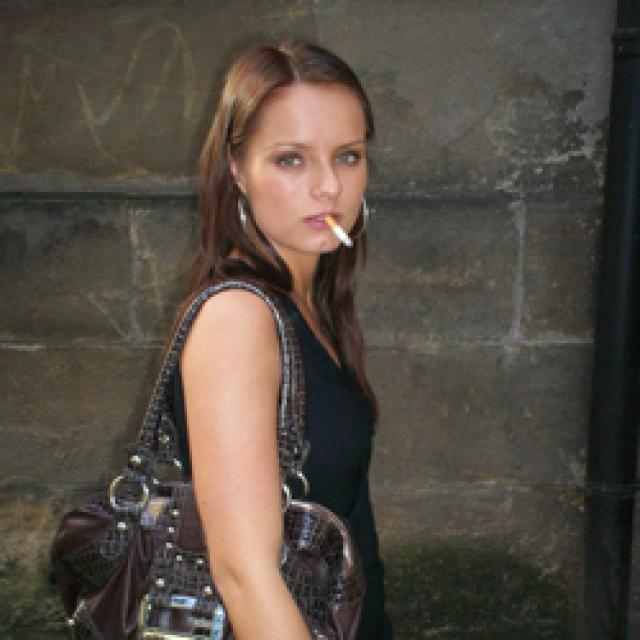Smooking: (324, 212, 354, 255)
